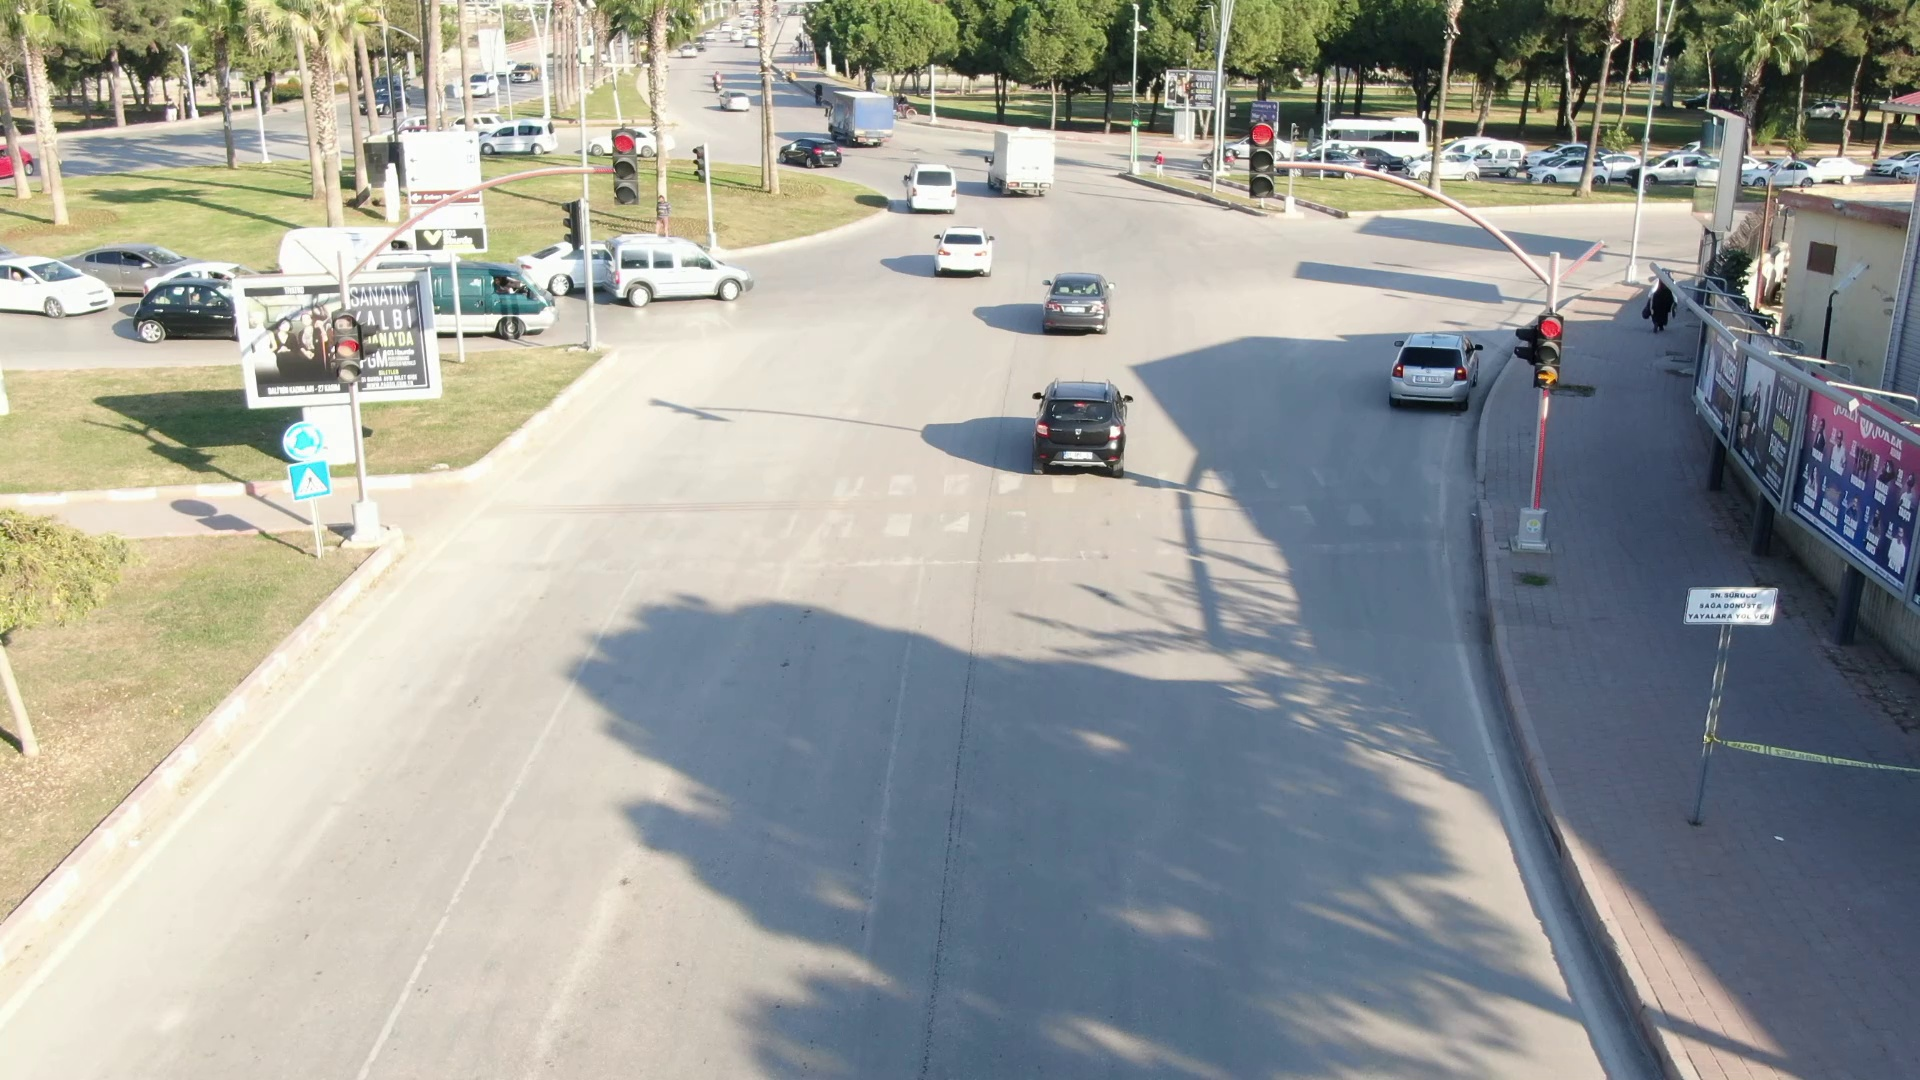car: (1003, 370, 1150, 490), (602, 224, 776, 322), (1, 237, 124, 330), (1377, 322, 1497, 413), (1027, 263, 1142, 344), (810, 79, 908, 158), (974, 120, 1072, 199), (891, 154, 971, 220), (925, 221, 1005, 283), (771, 131, 849, 174)
person: (1636, 263, 1687, 348)
